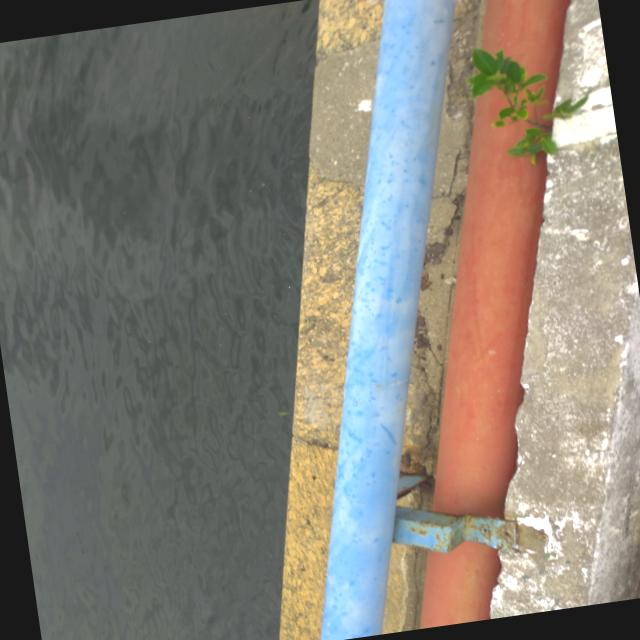gas: (419, 0, 564, 629), (321, 0, 452, 640)
